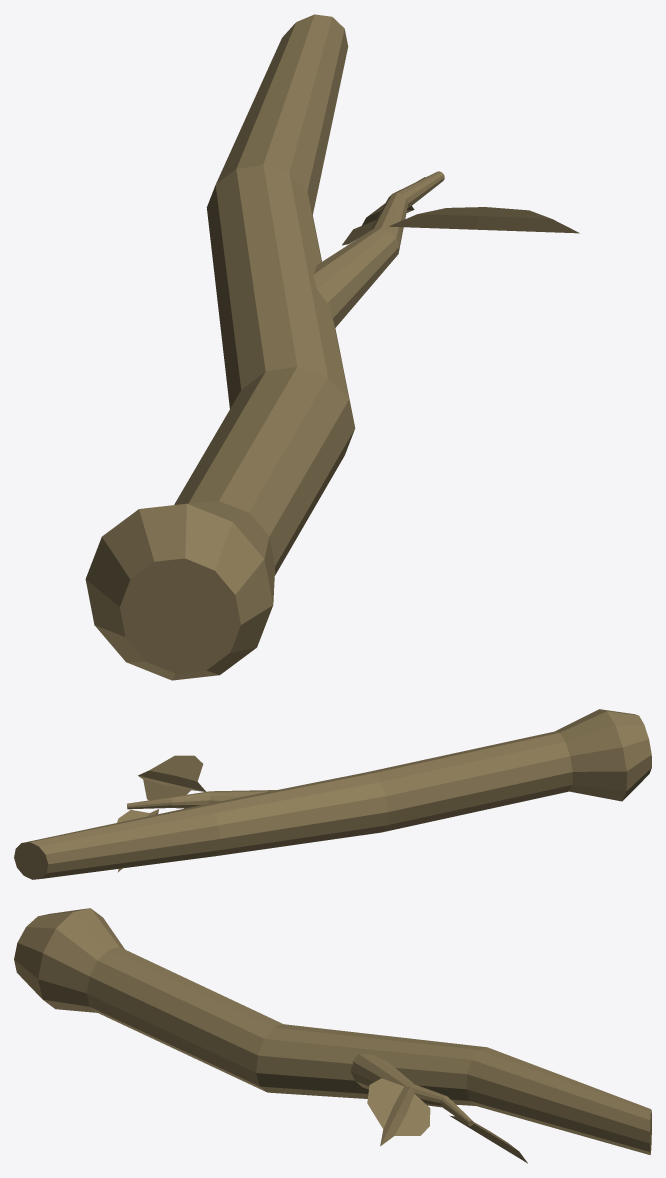
File: weapon-stick1.glb
3 views of the same model, one above another, from view 1: azimuth 30°, elevation 25°; view 2: azimuth 150°, elevation 25°; view 3: azimuth 270°, elevation 25° (orthographic). The views are drawn at different scales.
Visible parts, largest first — view 1: weapon-stick1; view 2: weapon-stick1; view 3: weapon-stick1.
Part boxes in pixels (x1,y1,x2,y2): weapon-stick1: (85,14,579,680); weapon-stick1: (14,709,651,879); weapon-stick1: (14,908,651,1163).
Size of the model in its own units: 0.4636 by 0.1042 by 0.605.
